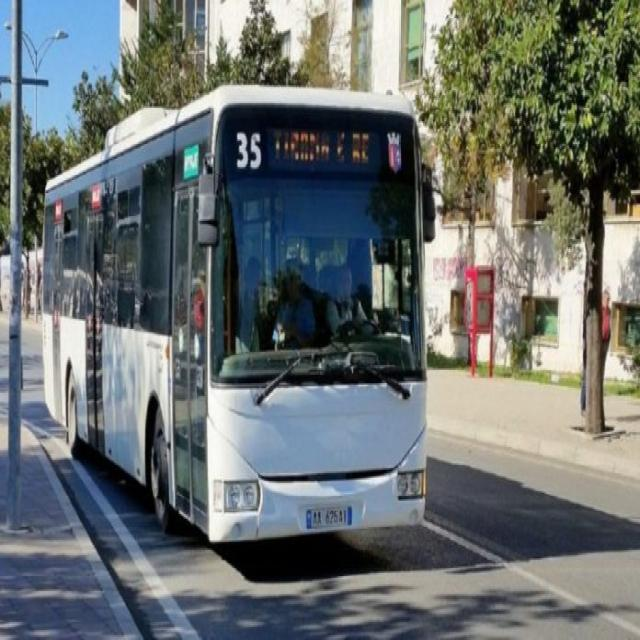Bus: (42, 85, 427, 543)
Electric pole: (6, 0, 21, 530)
